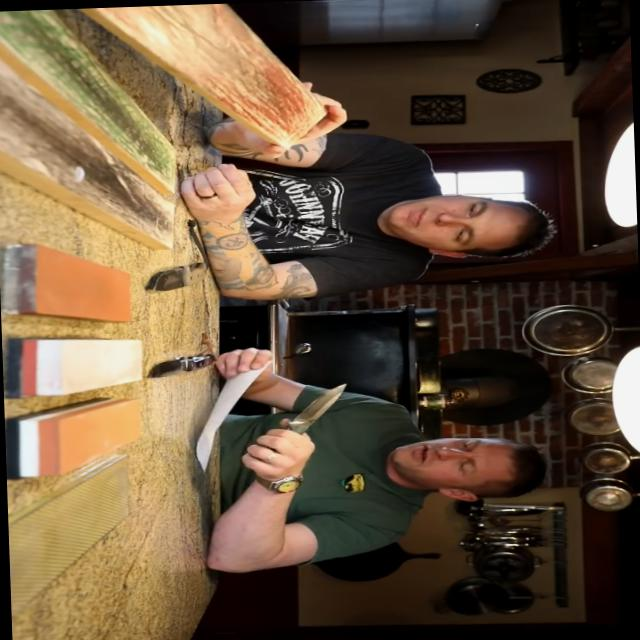knife: (242, 378, 359, 462)
